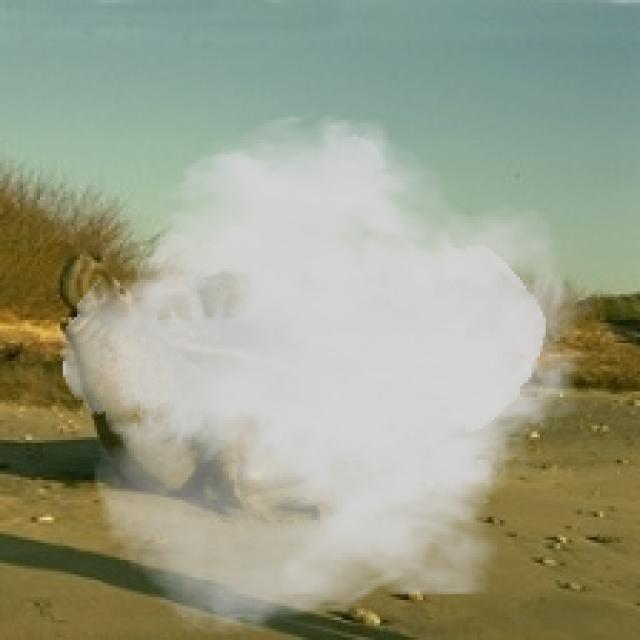smoke: (60, 109, 603, 637)
